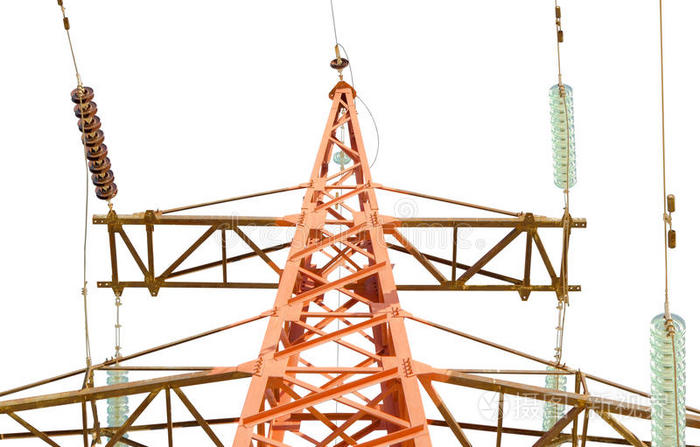insulator: (647, 313, 690, 447), (72, 86, 118, 197), (549, 82, 579, 192), (103, 365, 134, 439), (542, 364, 570, 430)
